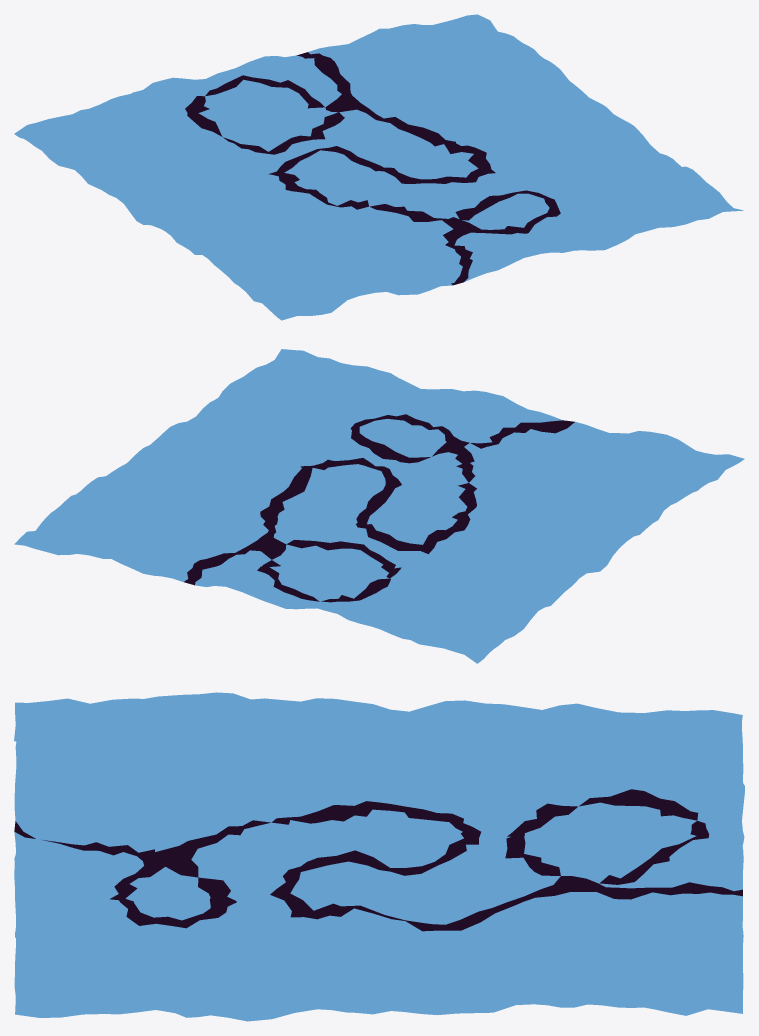
The model's file is WaterForLevel033.fbx.
3 views of the same model, one above another, from view 1: azimuth 30°, elevation 25°; view 2: azimuth 150°, elevation 25°; view 3: azimuth 270°, elevation 25° (orthographic). The views are drawn at different scales.
Parts seen in each view (by area): view 1: Plane; view 2: Plane; view 3: Plane.
Boxes of the visible parts, <box> form: Plane: <box>14,14,743,320</box>; Plane: <box>14,349,744,663</box>; Plane: <box>14,692,744,1021</box>.
Size of the model in its own units: 5095 by 281 by 5102.
